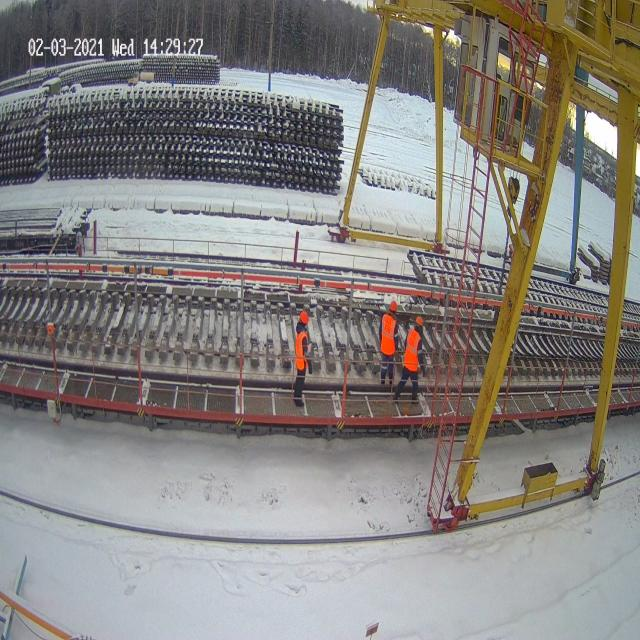Helmet: (299, 311, 309, 324), (389, 301, 397, 311), (416, 316, 423, 326)
Person: (392, 315, 424, 403), (293, 310, 313, 406), (378, 301, 399, 385)
